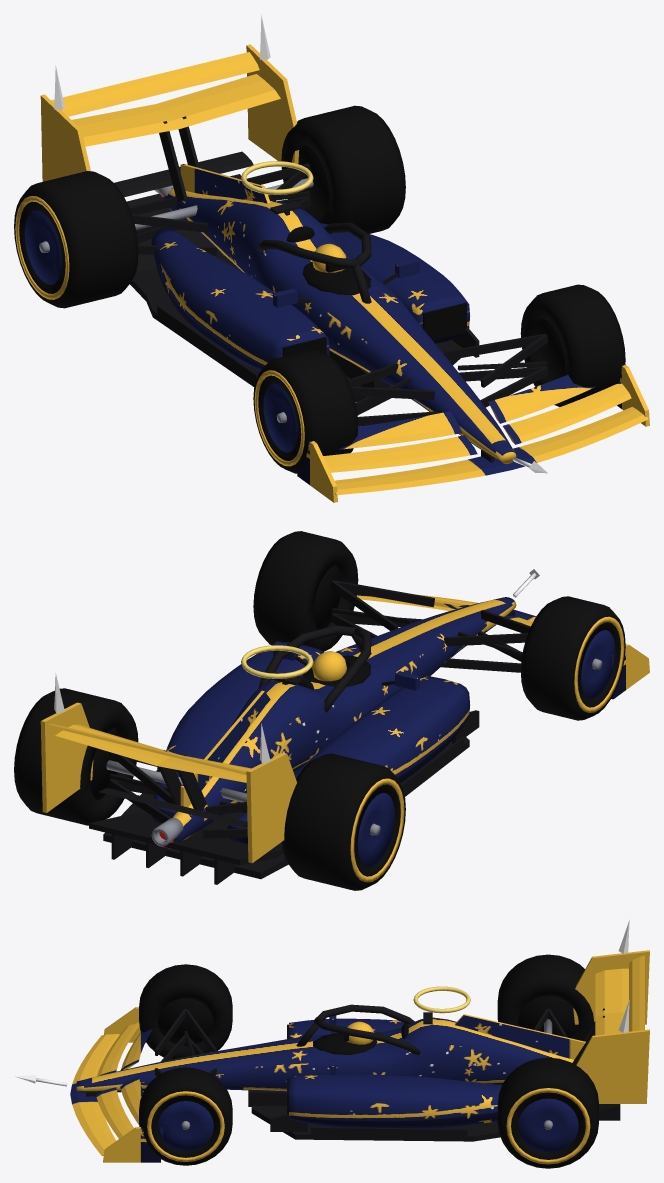
File: celestial_b.fbx
3 views of the same model, one above another, from view 1: azimuth 30°, elevation 25°; view 2: azimuth 150°, elevation 25°; view 3: azimuth 270°, elevation 25° (orthographic). The views are drawn at different scales.
Parts seen in each view (by area): view 1: Body, Trim, Wheel_RL, Wheel_RR, Wheel_FL, Wheel_FR, Glow, Acc; view 2: Body, Trim, Wheel_RL, Wheel_FL, Wheel_FR, Wheel_RR, Glow, Acc; view 3: Body, Trim, Wheel_RR, Wheel_FR, Wheel_FL, Wheel_RL, Acc, Glow.
Part boxes in pixels (box(x1,y1,x2,y2)): Body: box(40, 44, 649, 502); Trim: box(114, 116, 547, 462); Wheel_RL: box(14, 171, 138, 308); Wheel_RR: box(281, 105, 405, 233); Wheel_FL: box(253, 350, 358, 473); Wheel_FR: box(520, 284, 625, 406); Glow: box(158, 161, 313, 197); Acc: box(54, 15, 547, 473); Body: box(40, 594, 649, 863); Trim: box(89, 580, 530, 884); Wheel_RL: box(282, 753, 405, 890); Wheel_FL: box(520, 596, 625, 720); Wheel_FR: box(253, 531, 358, 651); Wheel_RR: box(14, 688, 138, 825); Glow: box(159, 645, 313, 848); Acc: box(54, 561, 547, 763); Body: box(70, 950, 649, 1162); Trim: box(86, 1004, 620, 1141); Wheel_RR: box(497, 1057, 598, 1168); Wheel_FR: box(139, 1067, 232, 1165); Wheel_FL: box(139, 964, 232, 1059); Wheel_RL: box(497, 954, 594, 1040); Acc: box(14, 920, 629, 1086); Glow: box(413, 986, 470, 1013).
Size of the model in its own units: 9.81 by 5.25 by 20.35.
Materials: 4 (1 with a texture image).
